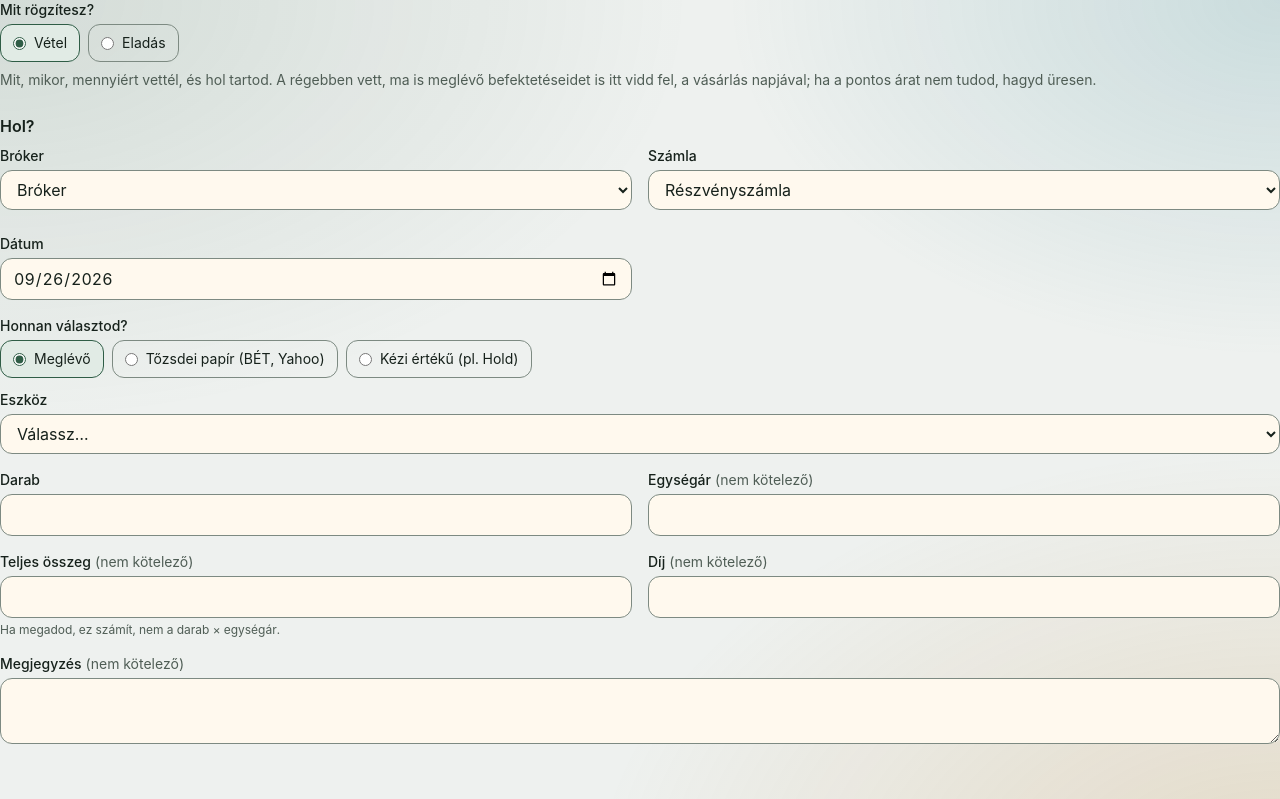
EntryForm – Vétel and Eladás (4c plan §2, without the Mai állomány tab since 2026-09-27) › 'Nem ez? Keresés a Yahoo-n' after a BÉT hit asks Yahoo only
Click the radio button labelled "Tőzsdei papír (BÉT, Yahoo)" at [131, 359], box [125,352,138,366]
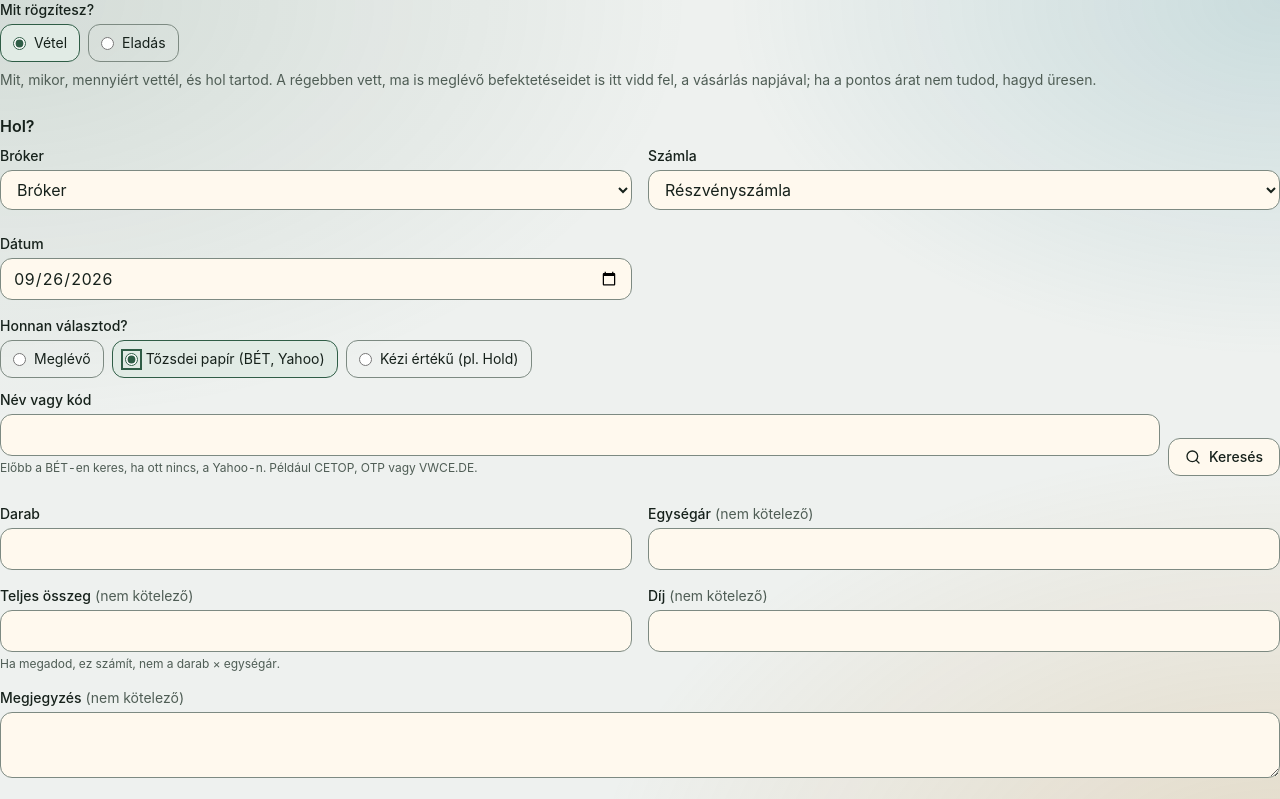
Type "teszt" into the field labelled "Név vagy kód" at [580, 435], box [0,414,1160,456]
Then press Enter
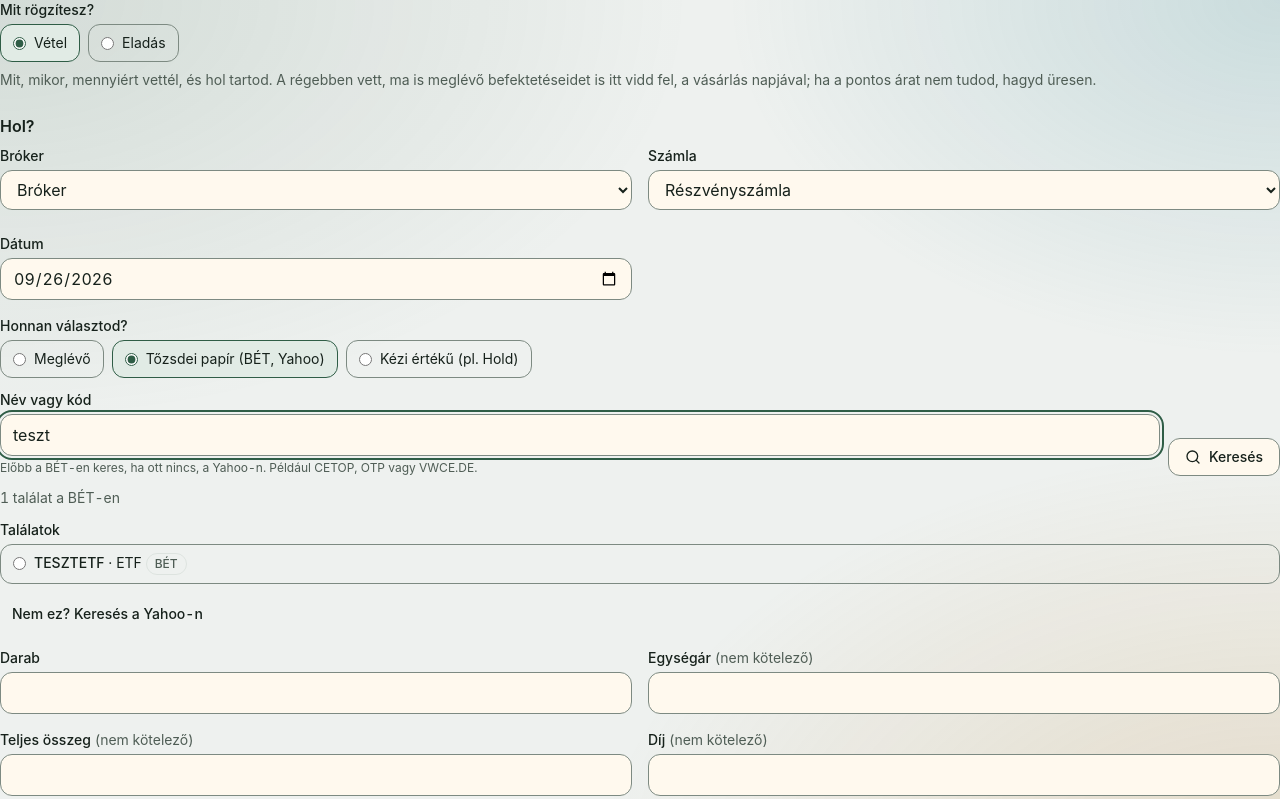
Click the button "Nem ez? Keresés a Yahoo-n" at [107, 614], box [0,596,215,632]
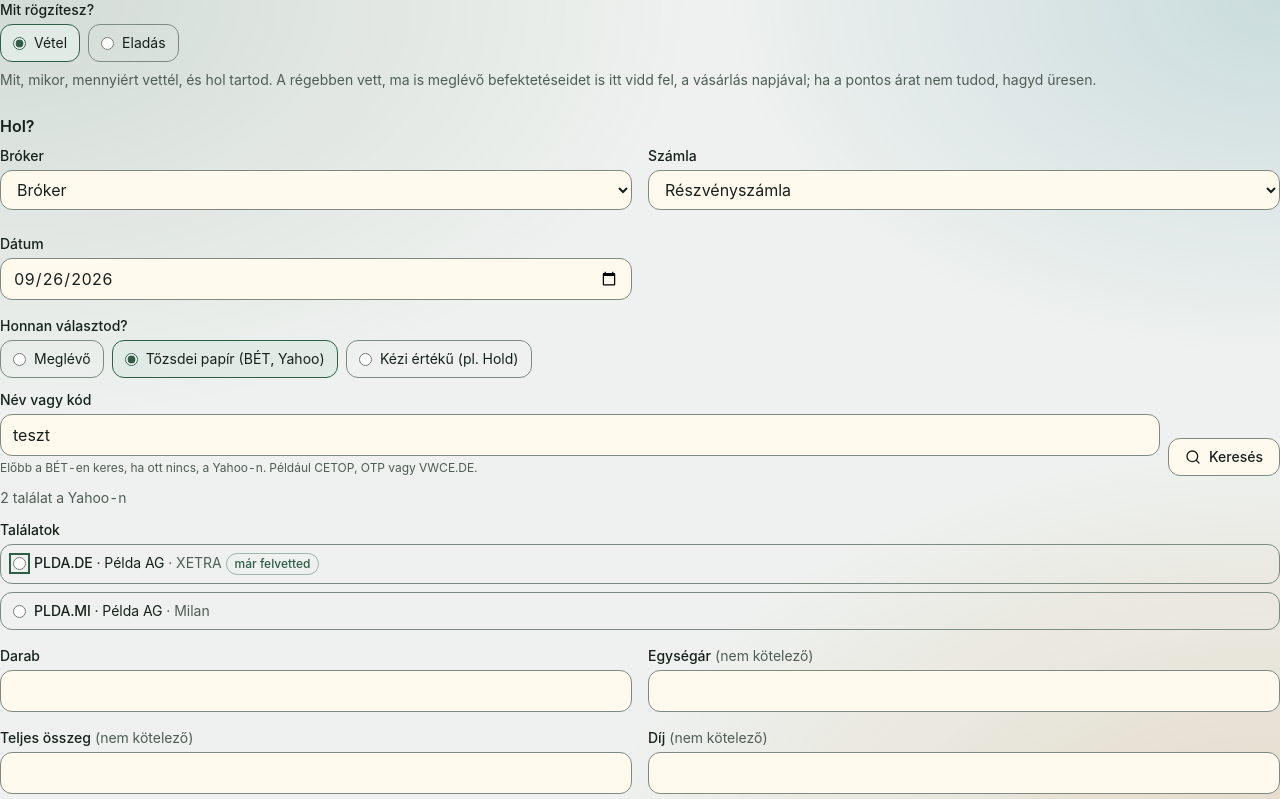
expect the text "2 találat a Yahoo-n" is shown: met, box [0,489,127,506]
expect the button "Nem ez? Keresés a Yahoo-n" is gone: met
